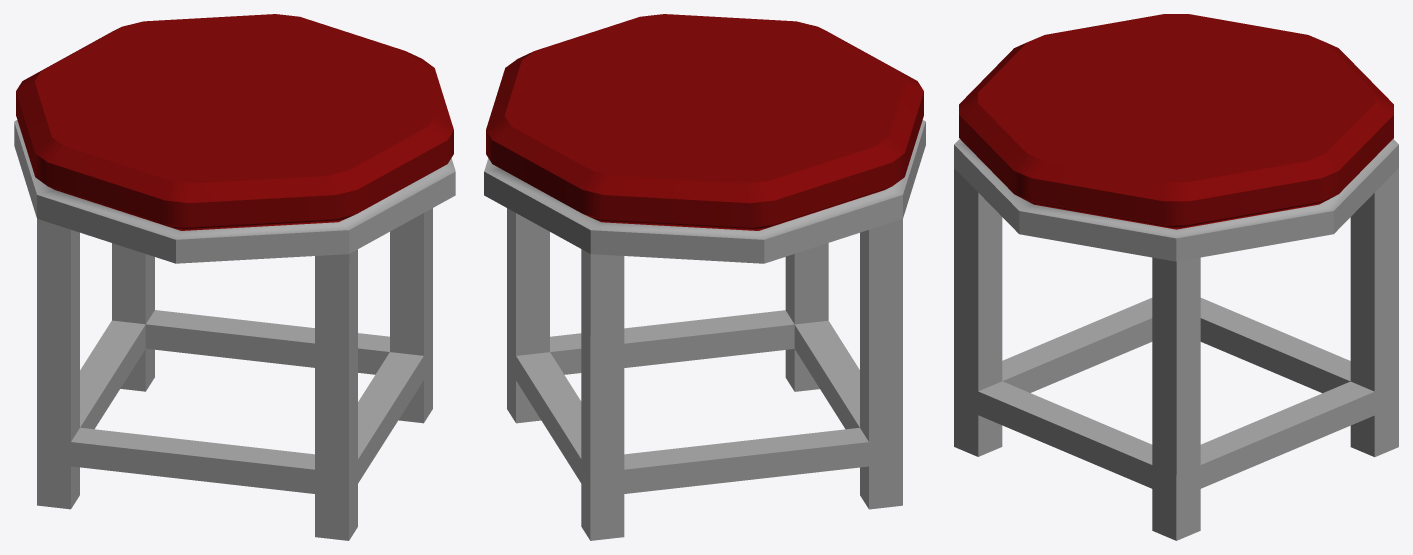
File: Stool019.fbx
3 renders of one model, left to right at view 1: azimuth 30°, elevation 25°; view 2: azimuth 150°, elevation 25°; view 3: azimuth 270°, elevation 25°, orthographic. The views are drawn at different scales.
Parts seen in each view (by area): view 1: pCylinder5; view 2: pCylinder5; view 3: pCylinder5.
Part boxes in pixels (box(x1,y1,x2,y2)): pCylinder5: box(14, 14, 455, 540); pCylinder5: box(484, 14, 925, 540); pCylinder5: box(954, 14, 1398, 540).
Size of the model in its own units: 54.84 by 47.46 by 54.84.
